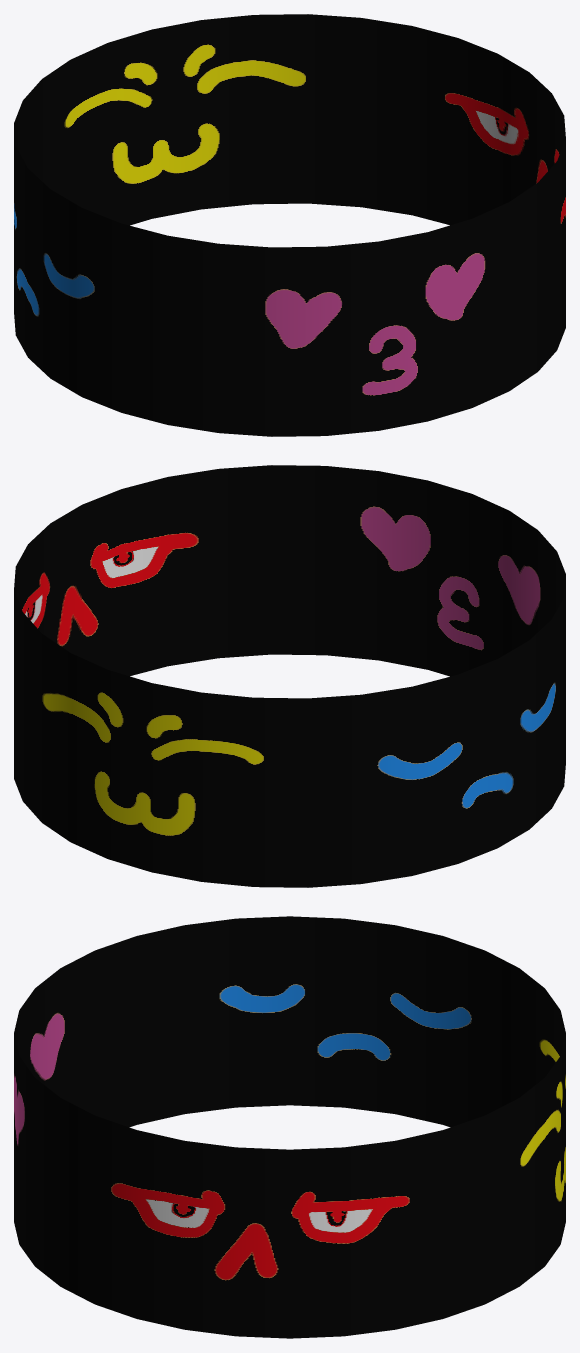
The picture shows the model from 3 angles, top to bottom: view 1: azimuth 30°, elevation 25°; view 2: azimuth 150°, elevation 25°; view 3: azimuth 270°, elevation 25°; orthographic projection.
Parts seen in each view (by area): view 1: Cylinder.001; view 2: Cylinder.001; view 3: Cylinder.001.
Boxes of the visible parts, bbox=[...] form: Cylinder.001: bbox=[14, 14, 565, 436]; Cylinder.001: bbox=[14, 465, 565, 887]; Cylinder.001: bbox=[14, 916, 565, 1338].
Size of the model in its own units: 2 by 0.7555 by 2.
1 material, 1 textured.
